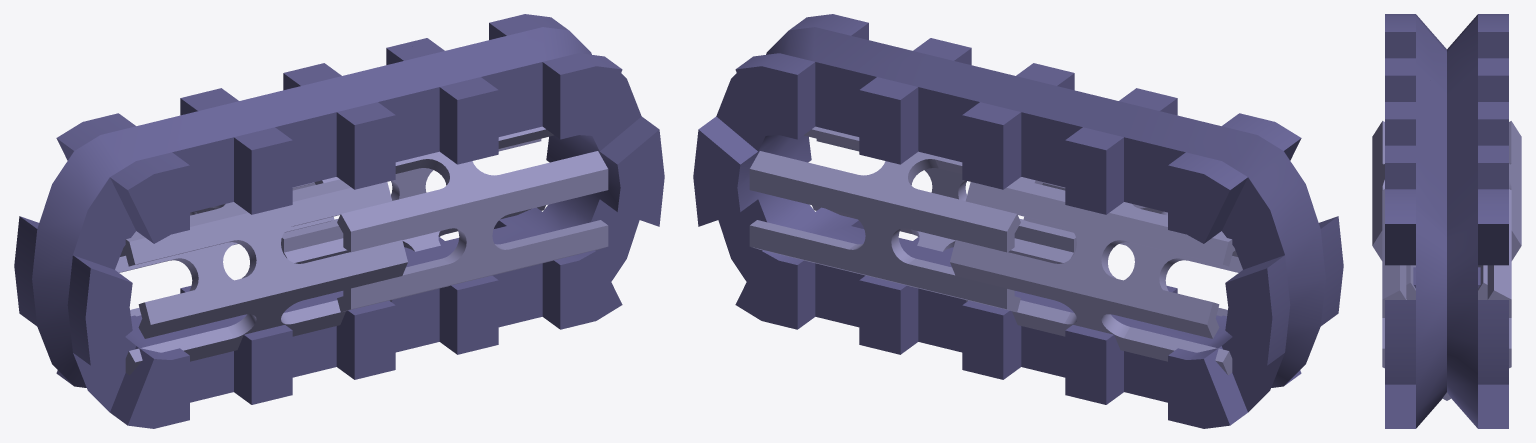
Rendered from L7_Abstracto3.dae.
3 renders of one model, left to right at view 1: azimuth 30°, elevation 25°; view 2: azimuth 150°, elevation 25°; view 3: azimuth 270°, elevation 25°, orthographic. The views are drawn at different scales.
Visible parts, largest first — view 1: wall_battlement_end (×4), hexagon_arches (×4), wall_battlement (×2); view 2: wall_battlement_end (×4), hexagon_arches (×4), wall_battlement (×2); view 3: wall_battlement_end (×4), wall_battlement (×2), hexagon_arches (×4).
Part boxes in pixels (x1,y1,x2,y2): wall_battlement_end (×4): [14, 14, 664, 428]; hexagon_arches (×4): [115, 126, 608, 375]; wall_battlement (×2): [201, 43, 477, 399]; wall_battlement_end (×4): [693, 14, 1343, 428]; hexagon_arches (×4): [749, 126, 1242, 375]; wall_battlement (×2): [880, 43, 1156, 399]; wall_battlement_end (×4): [1385, 14, 1508, 428]; wall_battlement (×2): [1385, 67, 1508, 288]; hexagon_arches (×4): [1372, 121, 1521, 400].
Bounding box in the file's own units: 4.5 × 1.89 × 1.15.
